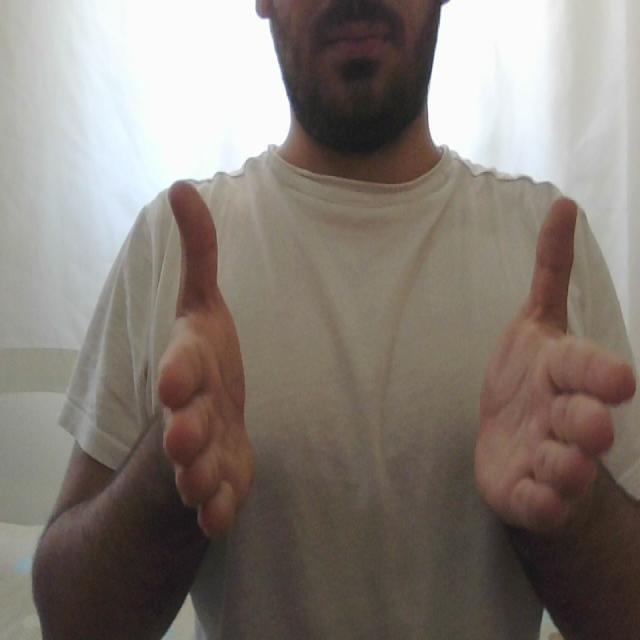Nasil: (155, 174, 640, 557)
